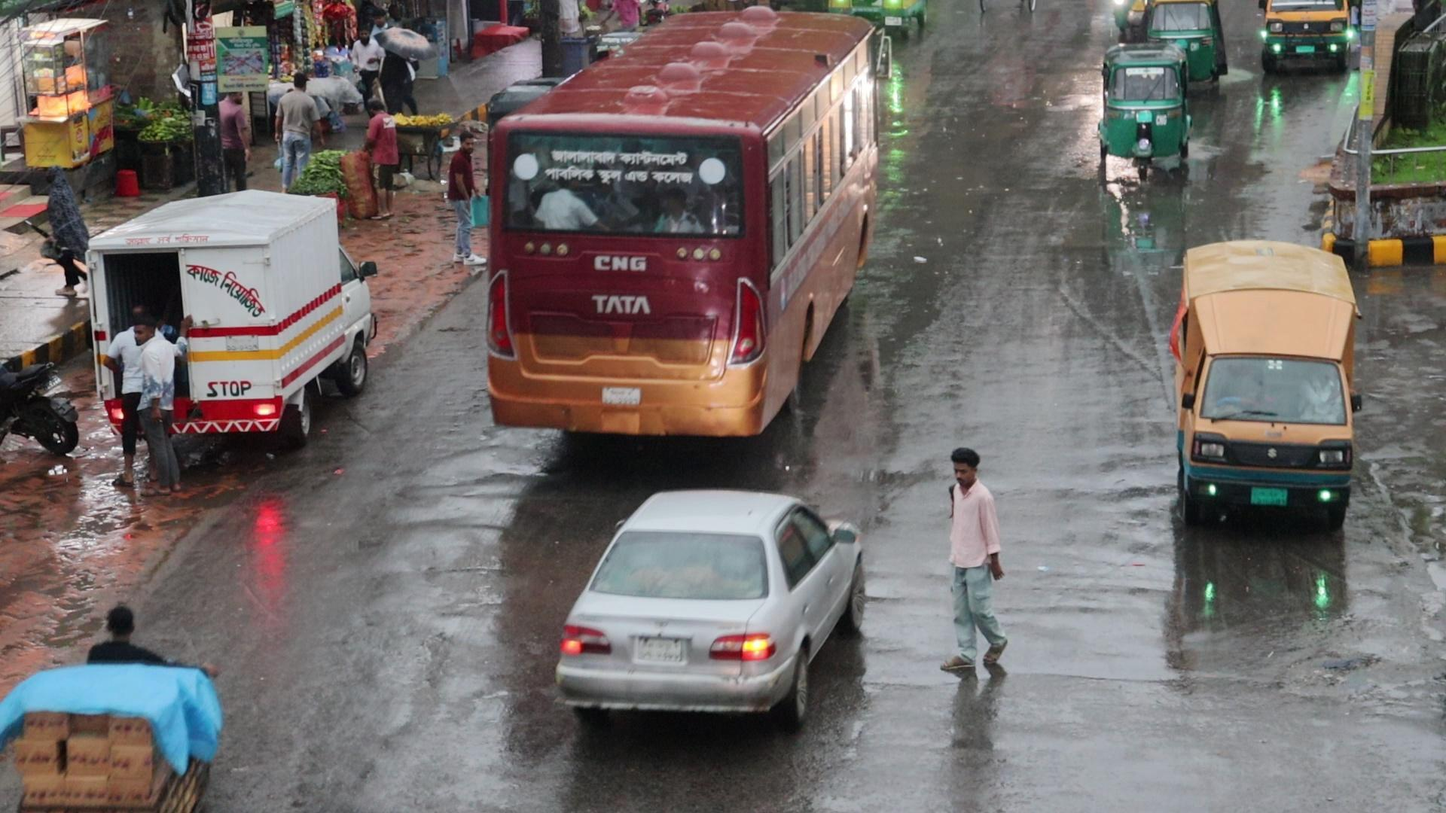Bus: (486, 4, 880, 460)
Car: (548, 482, 861, 728)
Truck: (1160, 238, 1363, 537)
